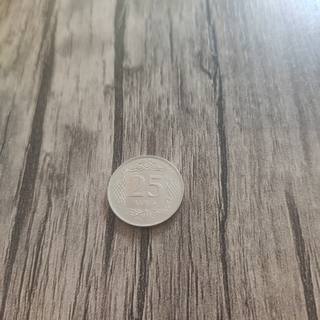25KURUS: (105, 154, 185, 227)
